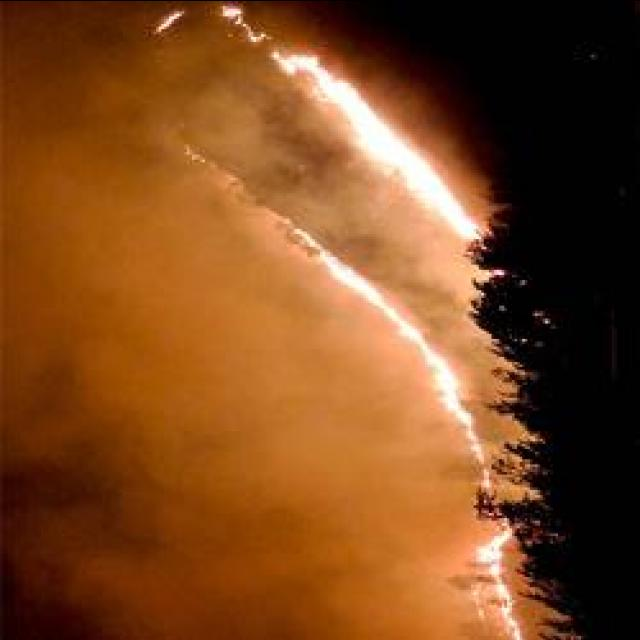fire: (347, 114, 449, 202), (271, 46, 378, 126), (474, 537, 524, 640), (318, 246, 390, 314), (376, 308, 449, 371), (417, 174, 480, 242), (432, 360, 478, 440)
smoke: (3, 478, 438, 640), (1, 118, 136, 515), (166, 83, 296, 283), (58, 65, 205, 177)
